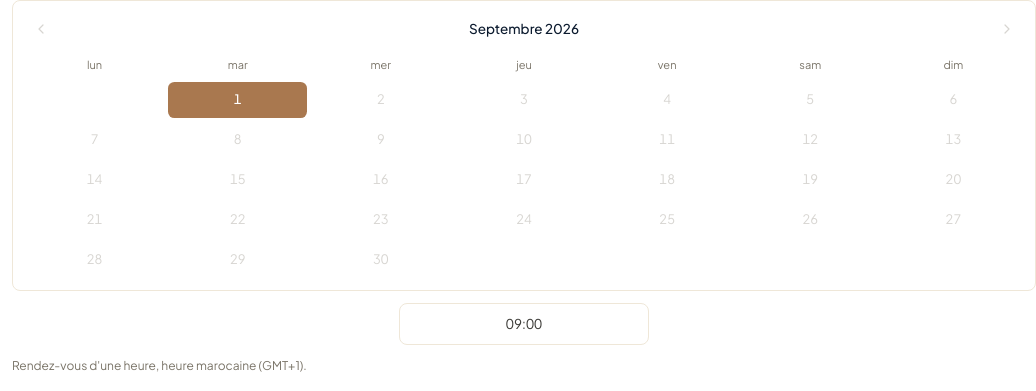
Test: tenir un créneau (hold) › prévient le parent et lance le compte à rebours quand le hold réussit
The width and height of the screenshot is (1036, 391).
Click the button "09:00": (524, 324) [399, 302, 649, 345]
Wait 1 ms
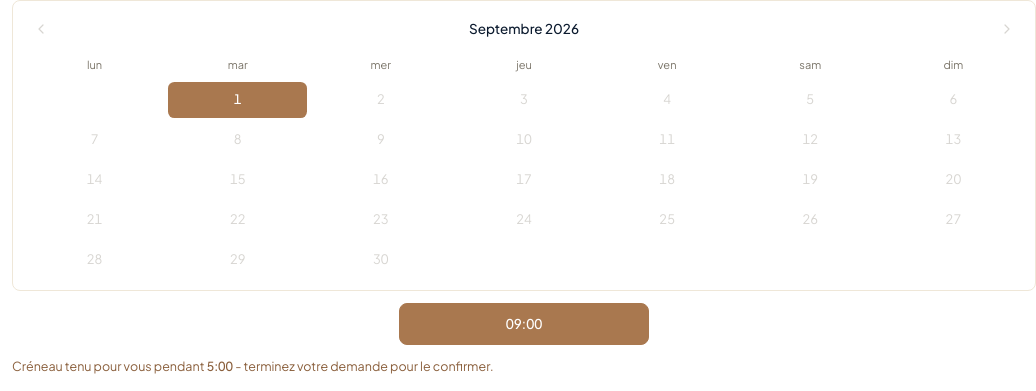
Expected: the text "Créneau tenu pour vous" is shown, [12, 358, 204, 374]
